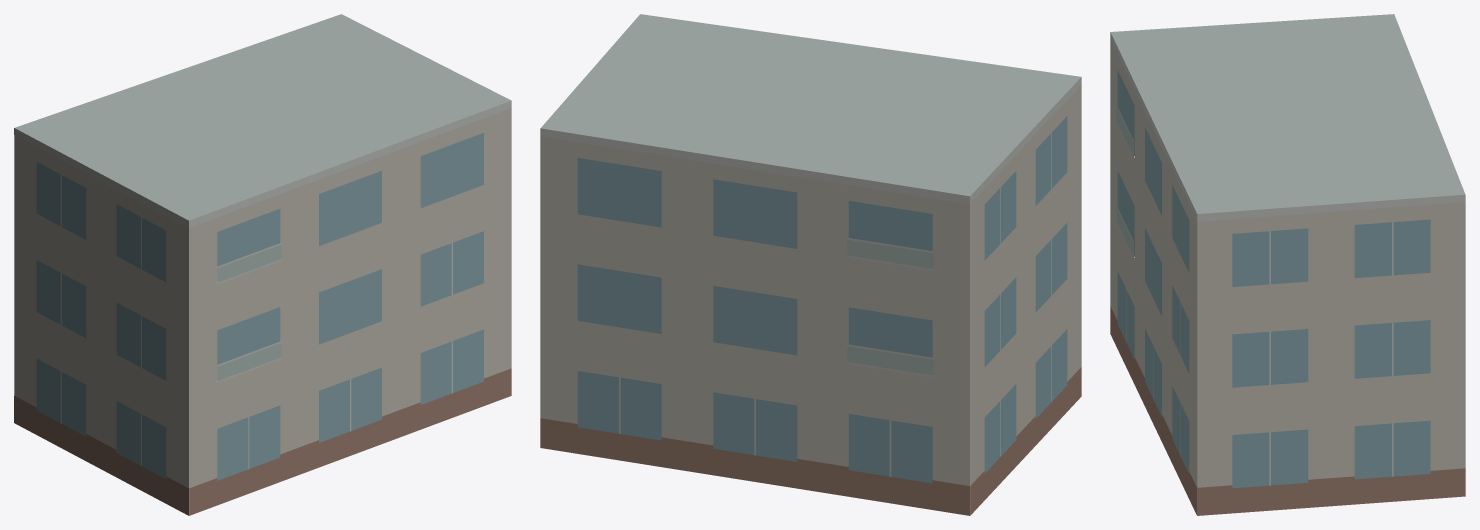
File: survey-upis-32912726.glb
3 renders of one model, left to right at view 1: azimuth 30°, elevation 25°; view 2: azimuth 150°, elevation 25°; view 3: azimuth 270°, elevation 25°, orthographic. The views are drawn at different scales.
Parts seen in each view (by area): view 1: survey-upis-32912726.tmp; view 2: survey-upis-32912726.tmp; view 3: survey-upis-32912726.tmp.
Boxes of the visible parts, x1,y1,x2,y2 form: survey-upis-32912726.tmp: (14,14,511,515); survey-upis-32912726.tmp: (540,14,1081,515); survey-upis-32912726.tmp: (1110,14,1465,515).
Bounding box in the file's own units: 14.02 × 9.85 × 10.52.
